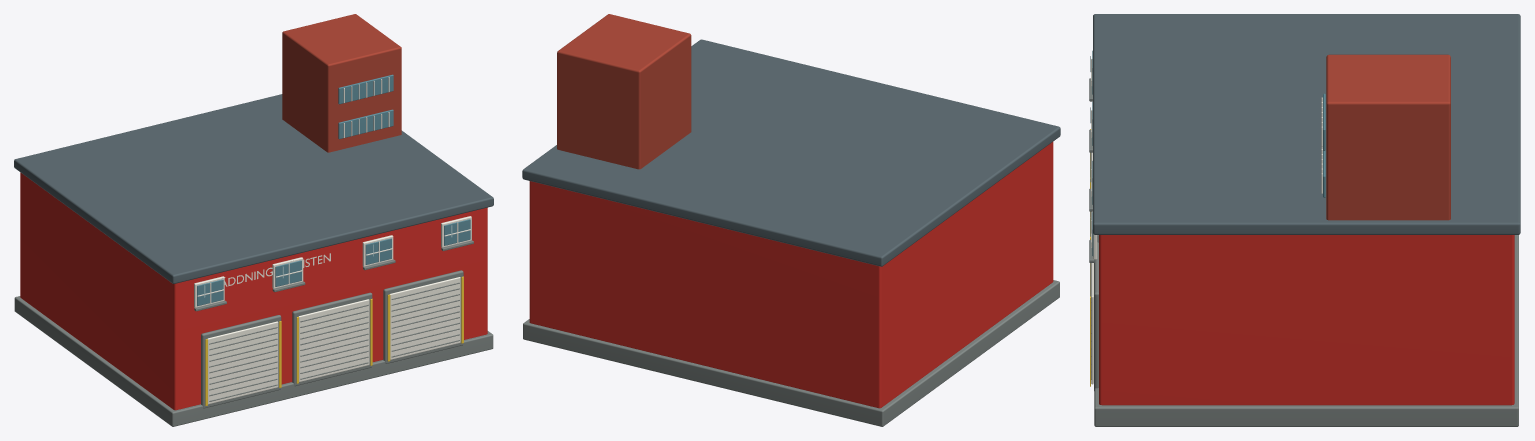
Rendered from brandstation.glb.
3 views of the same model, side by side, from view 1: azimuth 30°, elevation 25°; view 2: azimuth 150°, elevation 25°; view 3: azimuth 270°, elevation 25° (orthographic). The views are drawn at different scales.
Visible parts, largest first — view 1: Station roof, Red brick fire station, Drying tower, Station foundation, Roller door.002, Roller door.001, Roller door, Garage door inset.001, Garage door inset.002, Garage door inset, Tower louver glass.002, Tower louver glass.003 (+4 smaller); view 2: Red brick fire station, Station roof, Drying tower, Station foundation; view 3: Station roof, Red brick fire station, Drying tower, Station foundation, Garage door inset.002.
Part boxes in pixels (x1,y1,x2,y2): Station roof: [14, 94, 493, 283]; Red brick fire station: [20, 172, 487, 410]; Drying tower: [282, 14, 401, 152]; Station foundation: [14, 296, 493, 426]; Roller door.002: [389, 277, 460, 359]; Roller door.001: [298, 299, 369, 382]; Roller door: [207, 321, 278, 404]; Garage door inset.001: [292, 292, 372, 386]; Garage door inset.002: [383, 270, 463, 363]; Garage door inset: [201, 315, 281, 408]; Tower louver glass.002: [338, 109, 393, 139]; Tower louver glass.003: [338, 74, 393, 104]; Red brick fire station: [529, 142, 1053, 408]; Station roof: [522, 39, 1060, 266]; Drying tower: [557, 14, 691, 169]; Station foundation: [523, 280, 1059, 426]; Station roof: [1093, 14, 1520, 234]; Red brick fire station: [1099, 235, 1514, 405]; Drying tower: [1326, 54, 1450, 220]; Station foundation: [1094, 235, 1518, 426]; Garage door inset.002: [1094, 242, 1098, 390].
Bounding box in the file's own units: 16.4 × 11.7 × 14.22.
